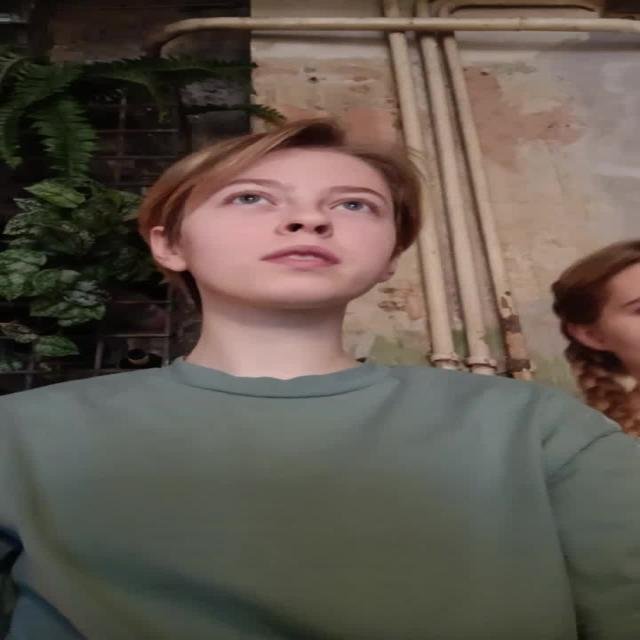earlobe: (148, 226, 189, 272), (568, 322, 612, 351)
